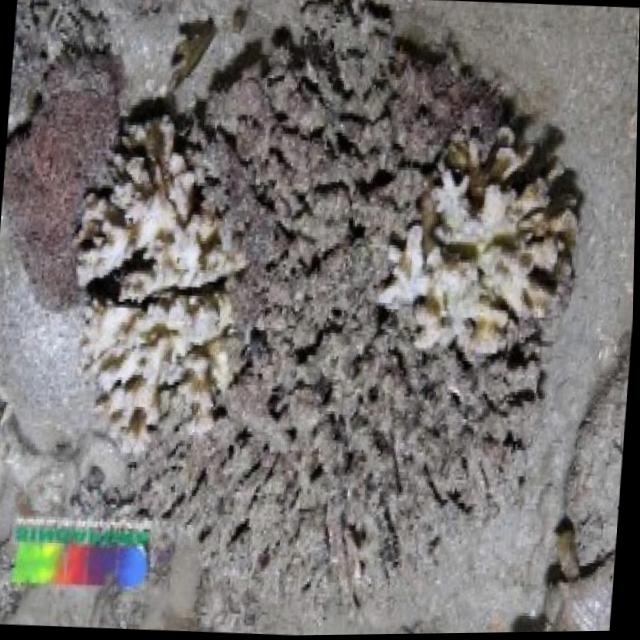Bleached Coral: (75, 111, 253, 474), (360, 126, 597, 377)
